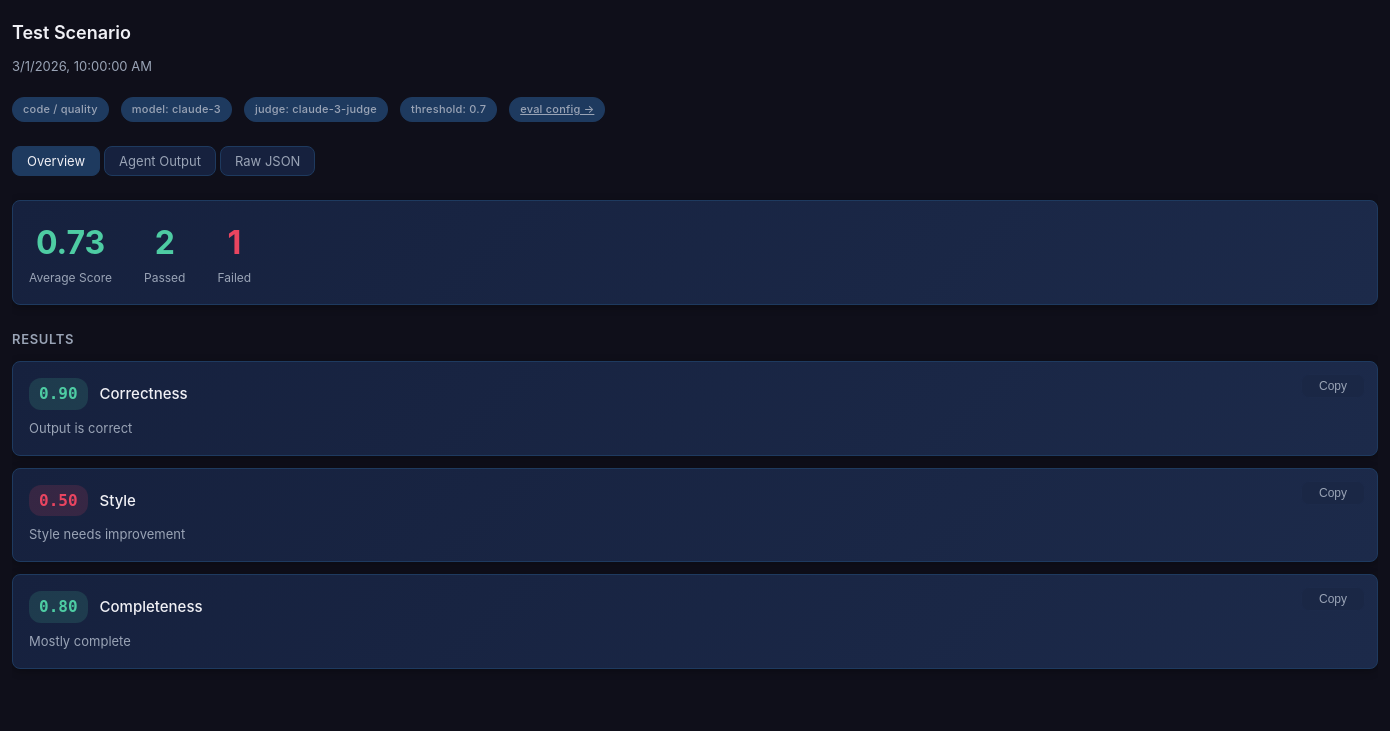
Test case: EvalDetailPage › switches to Raw JSON tab
This screenshot has width=1390, height=731.
Expected: the heading "Test Scenario" is shown, [12,22,131,43]
Click the button "Raw JSON" at (268, 161), box [220,146,315,176]
(page scrolled)
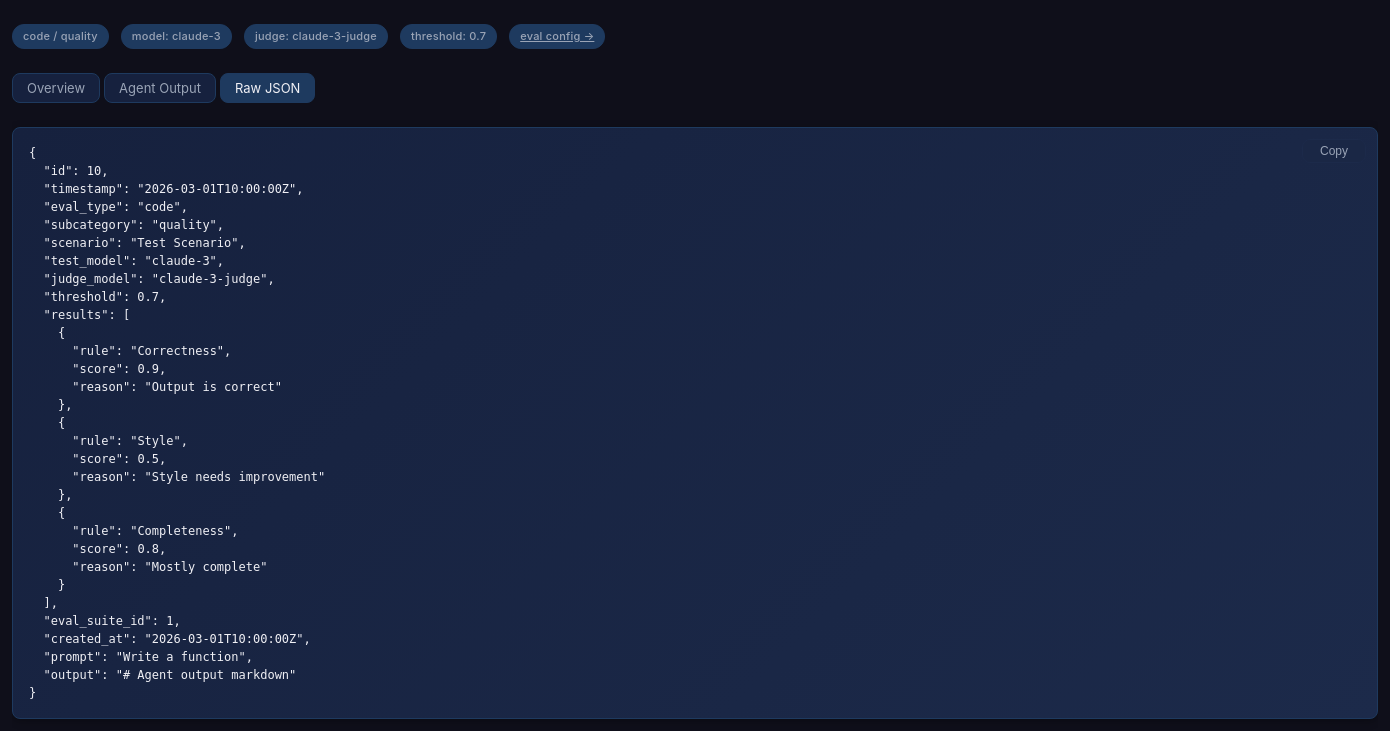
Now the text "\"id\": 10" is shown, box [29,146,325,700]
